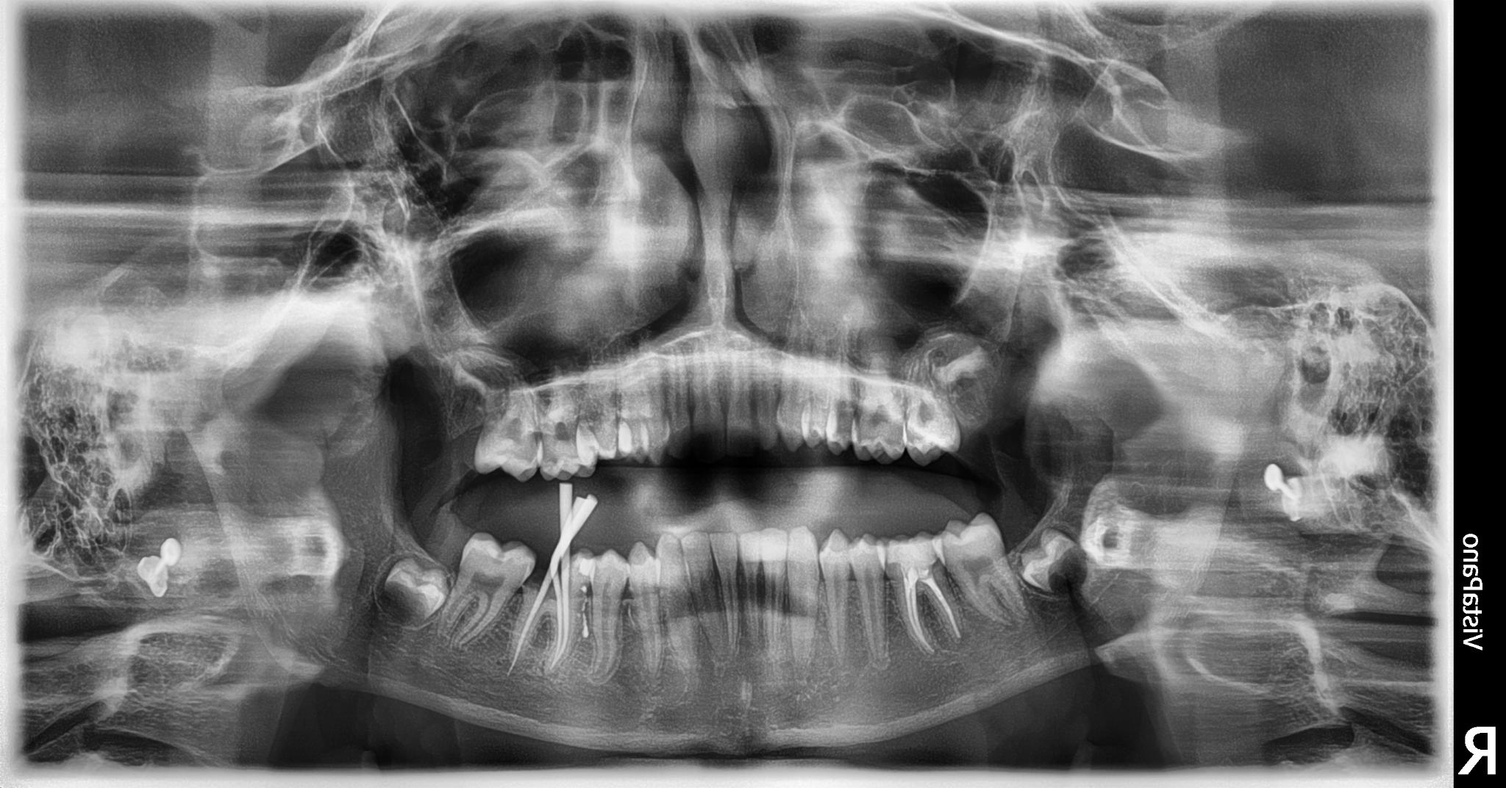Premolars: (553, 266, 1506, 780), (248, 253, 711, 788), (293, 226, 872, 589), (220, 273, 600, 788)
